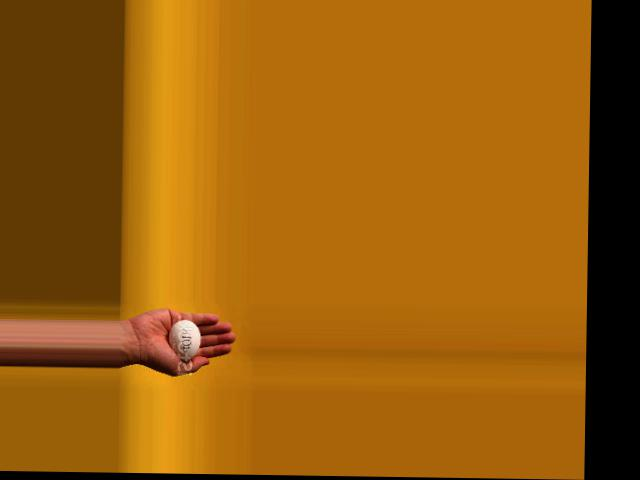egg: (169, 319, 201, 360)
